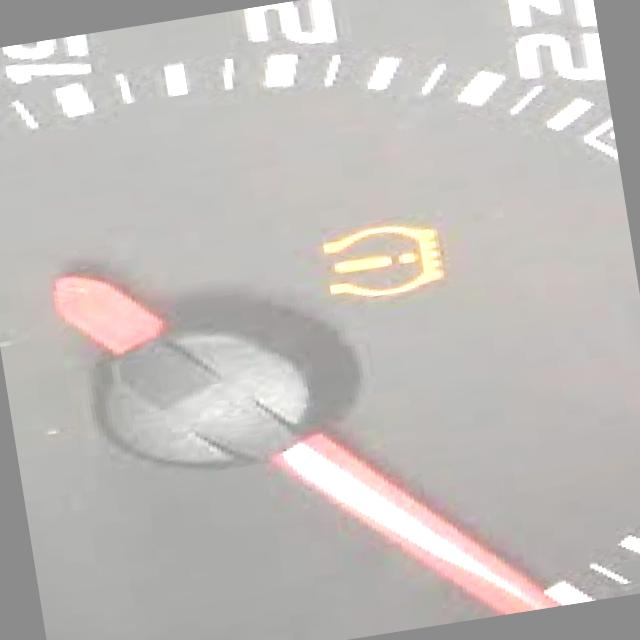kontrolka: (306, 204, 464, 322)
